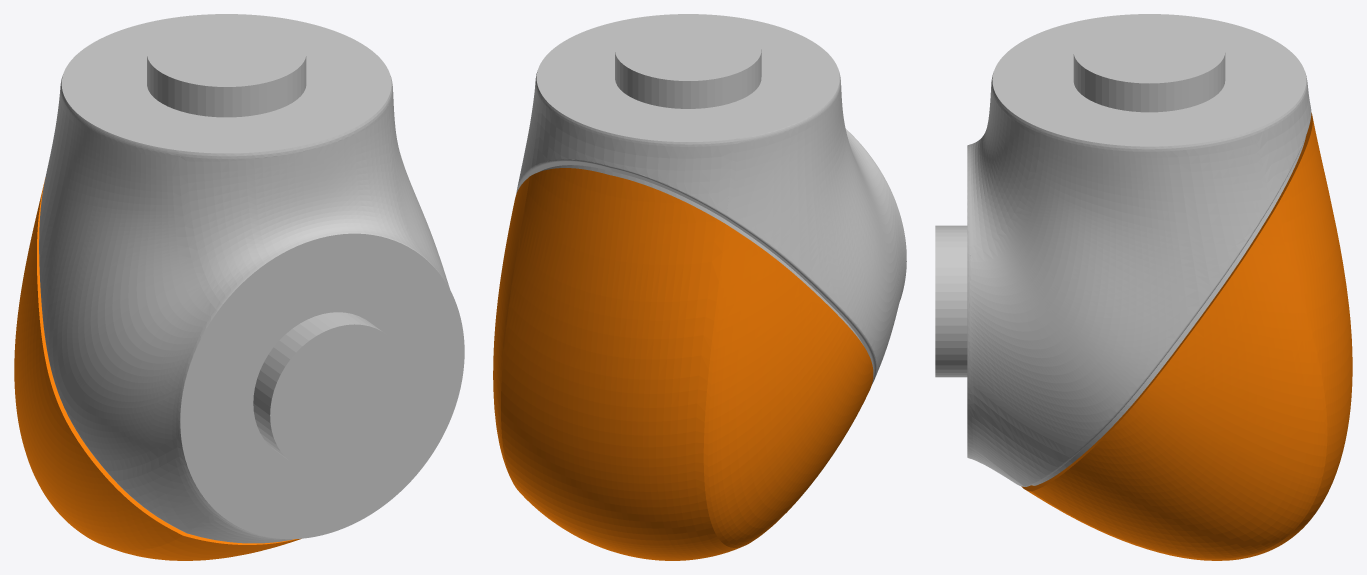
The picture shows the model from 3 angles, left to right: view 1: azimuth 30°, elevation 25°; view 2: azimuth 150°, elevation 25°; view 3: azimuth 270°, elevation 25°; orthographic projection. The views are drawn at different scales.
Visible parts, largest first — view 1: node0, node1; view 2: node1, node0; view 3: node0, node1.
Boxes of the visible parts, <box> form: node0: <box>39,14,464,543</box>; node1: <box>14,178,301,560</box>; node1: <box>493,168,873,560</box>; node0: <box>516,14,906,384</box>; node0: <box>935,14,1311,486</box>; node1: <box>1021,112,1352,560</box>.
Bounding box in the file's own units: 0.1323 × 0.1374 × 0.1774.
